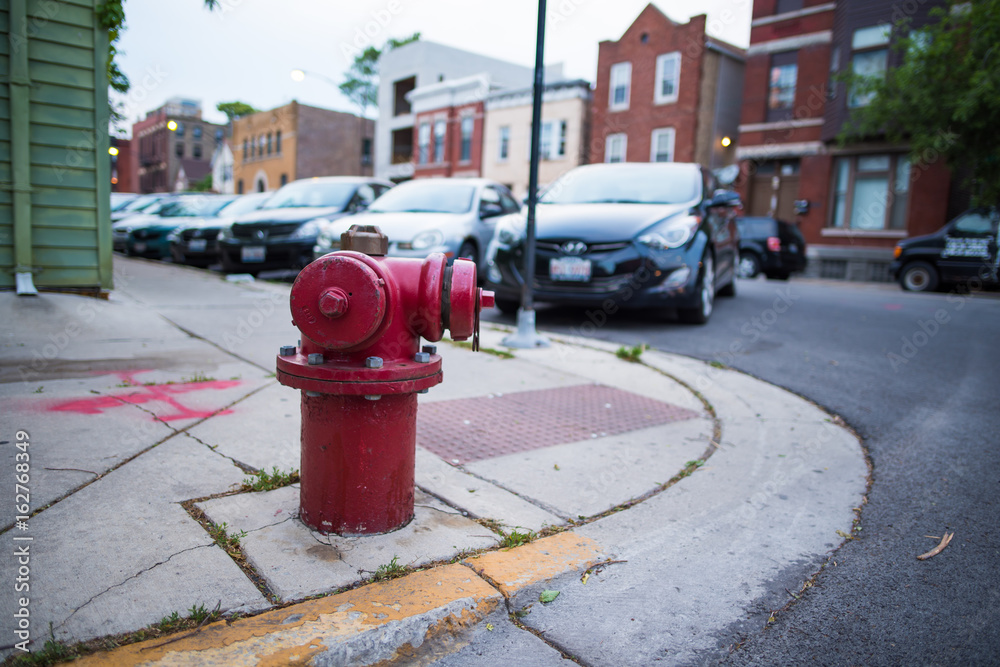firehdyrant: (268, 218, 500, 544)
